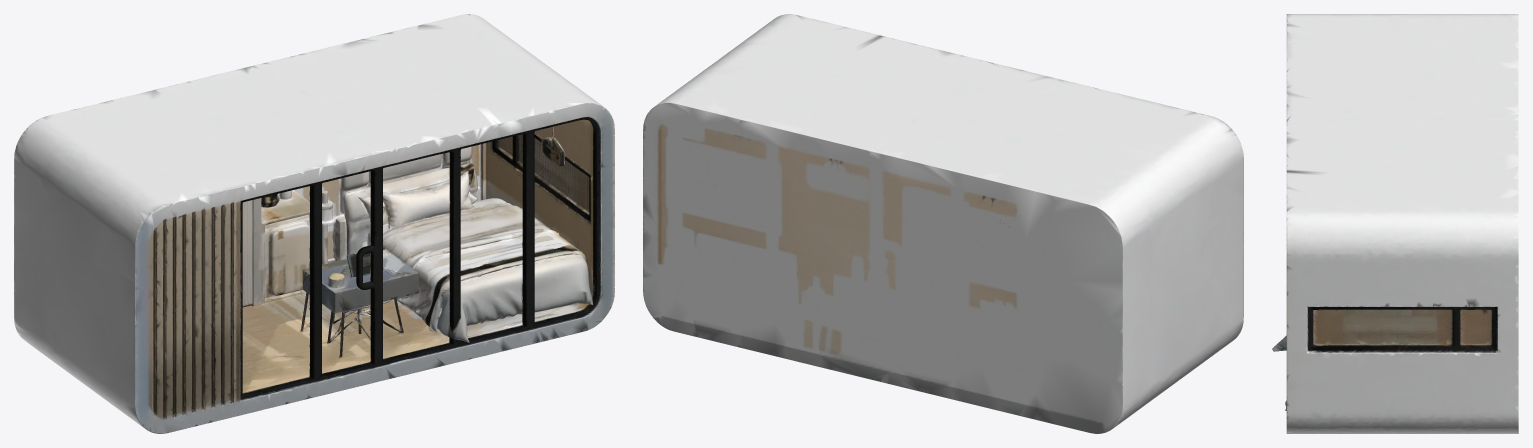
Rendered from apple-cabins.glb.
The picture shows the model from 3 angles, left to right: view 1: azimuth 30°, elevation 25°; view 2: azimuth 150°, elevation 25°; view 3: azimuth 270°, elevation 25°; orthographic projection. The views are drawn at different scales.
Size of the model in its own units: 1.9 by 0.8646 by 0.8819.
1 material, 1 textured.
